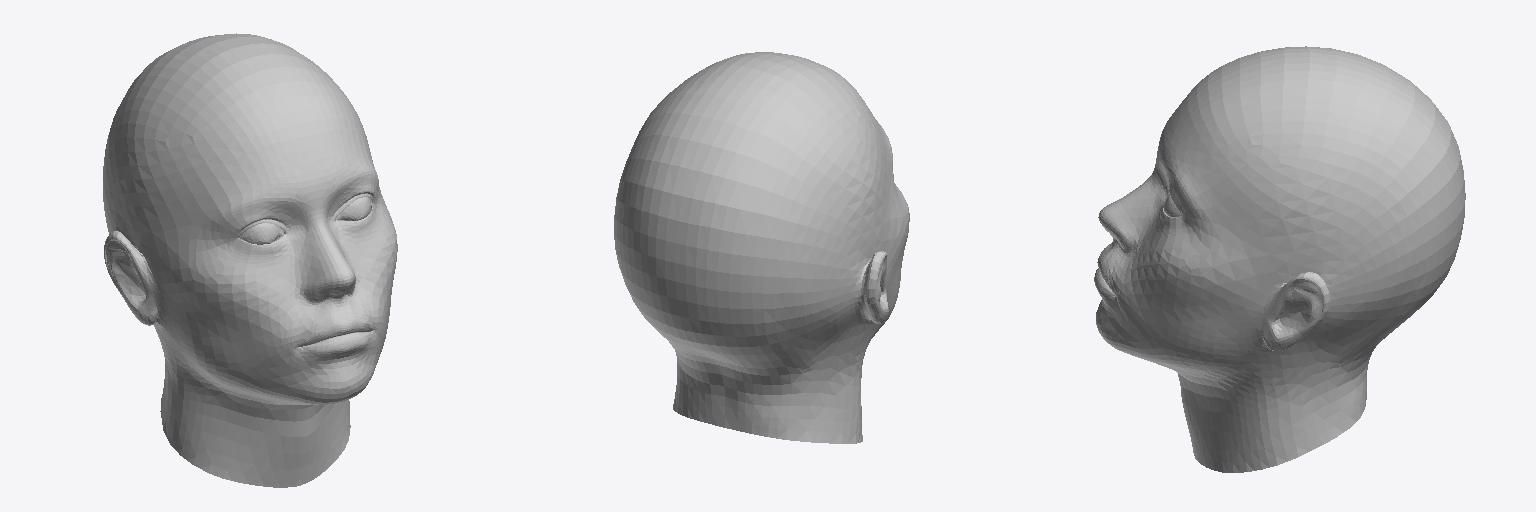
The picture shows the model from 3 angles: view 1: azimuth 30°, elevation 25°; view 2: azimuth 150°, elevation 25°; view 3: azimuth 270°, elevation 25°; orthographic projection.
Visible parts, largest first — view 1: FaceGen; view 2: FaceGen; view 3: FaceGen.
Boxes of the visible parts, <box> form: FaceGen: <box>103,33,397,487</box>; FaceGen: <box>614,52,909,443</box>; FaceGen: <box>1094,46,1465,472</box>.
Size of the model in its own units: 195 by 283 by 240.